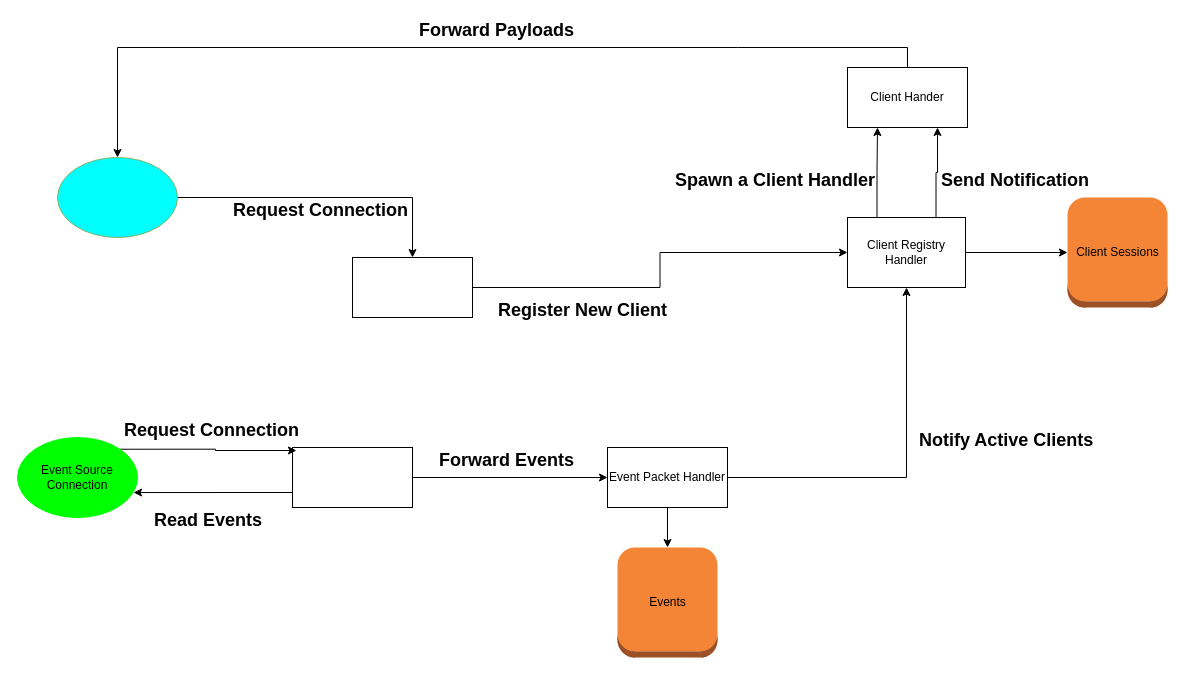
Image size: 1185x674. Some labels were removed from this diagram. The centre of each missing label's shape, as x and y in pixels:
Event Consumer Handler: pixel 412 287
Event Consumers: pixel 117 197
Event Source Handler: pixel 352 477
